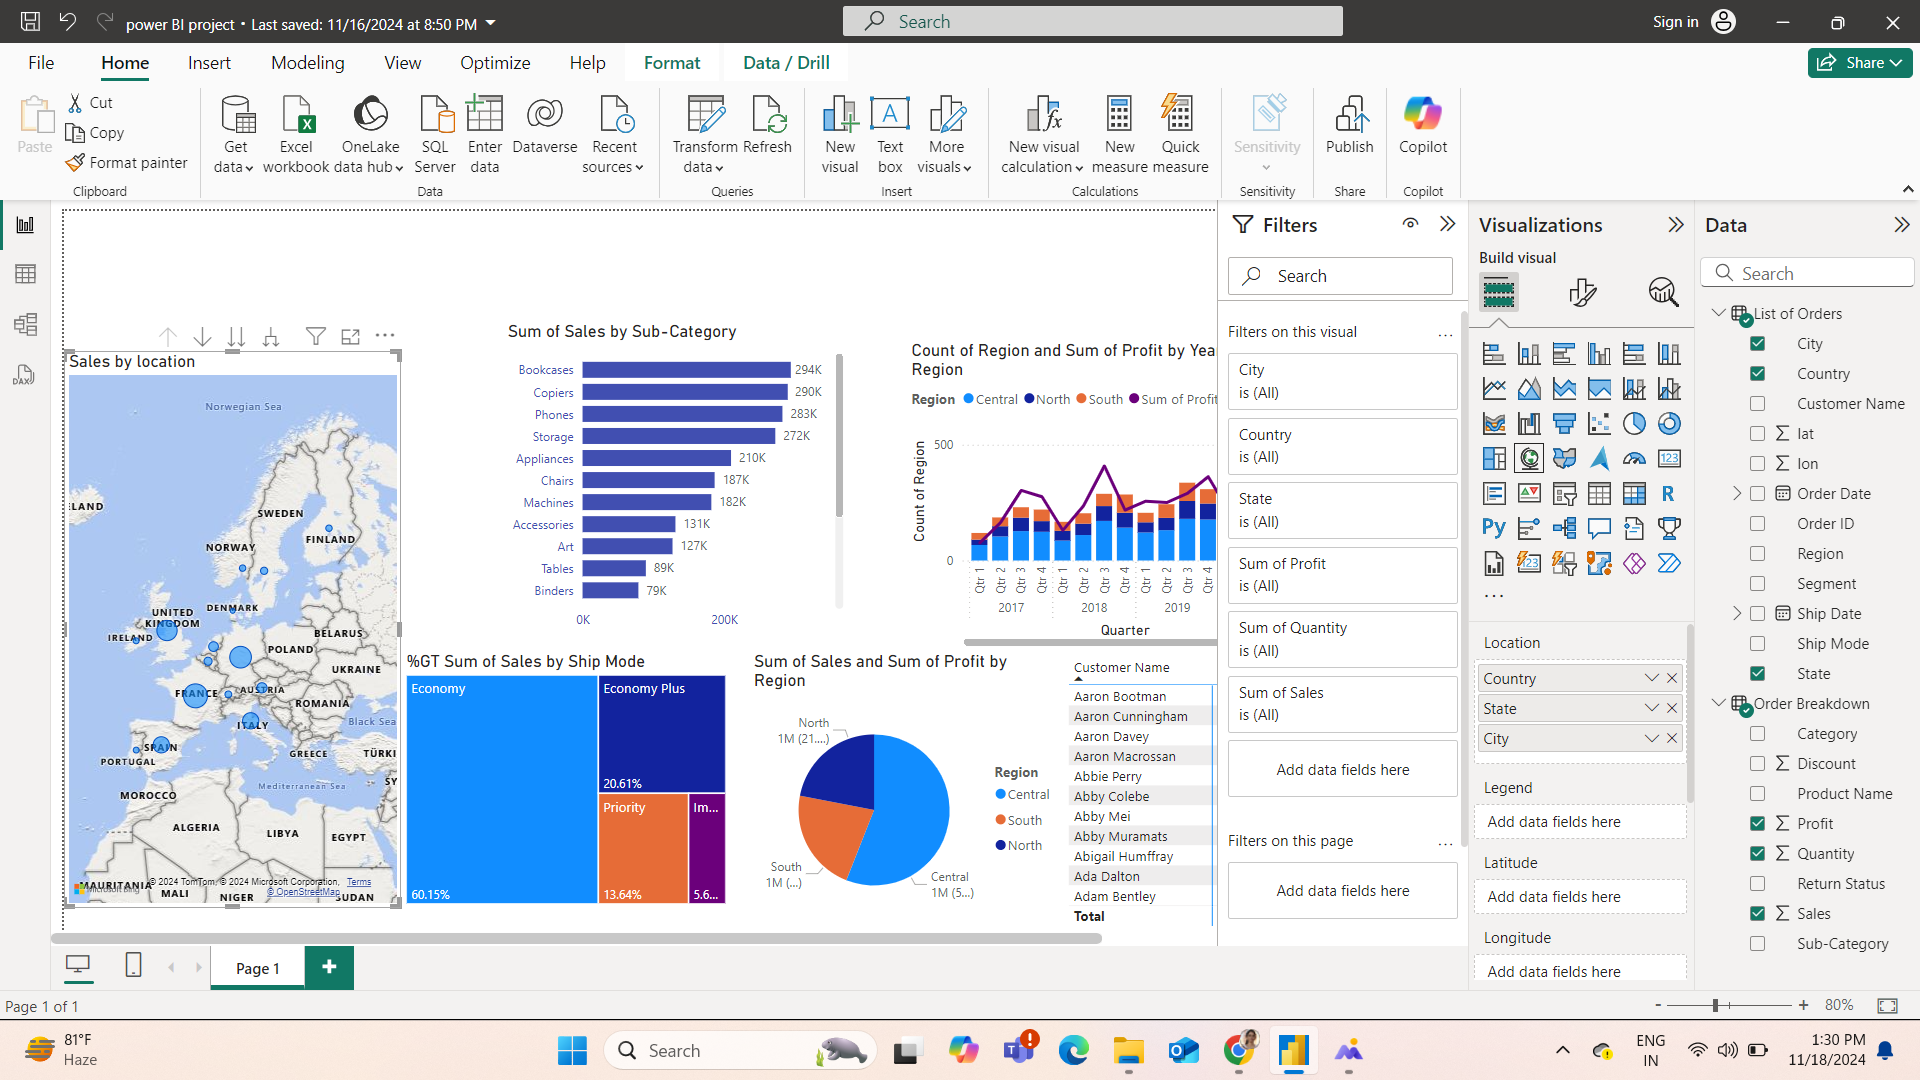

The dashboard page shown, as its layout file describes it:
{"tool":"powerbi","page":{"name":"Page 1","canvas":[1280,720],"ordinal":0},"visuals":[{"type":"pivotTable","fields":{"Rows":["List of Orders.Customer Name"],"Values":["Sum(Order Breakdown.Sales)"]},"box":[1000.3,440.5,279.9,279.9],"z":0},{"type":"clusteredBarChart","title":" Sales by Sub-Category","fields":{"Category":["Order Breakdown.Sub-Category","Order Breakdown.Profit"],"Y":["Sum(Order Breakdown.Sales)"]},"box":[347.5,128.8,437.5,297.5],"z":1000},{"type":"pieChart","title":" Sales and Profit by Region","fields":{"Category":["List of Orders.Region"],"Y":["Sum(Order Breakdown.Sales)"]},"box":[684.7,440.5,315.6,279.9],"z":2000},{"type":"treemap","title":"%GT of Sales by Ship Mode","fields":{"Values":["Sum(Order Breakdown.Sales)"],"Group":["List of Orders.Ship Mode"]},"box":[337.6,440.5,329.3,258],"z":3000},{"type":"lineStackedColumnComboChart","title":"Count of Region  and Profit by Year, Quarter and Region","fields":{"Y2":["Sum(Order Breakdown.Profit)"],"Y":["CountNonNull(List of Orders.Region)"],"Category":["List of Orders.Order Date.Variation.Date Hierarchy.Year","List of Orders.Order Date.Variation.Date Hierarchy.Quarter"],"Series":["List of Orders.Region"]},"box":[842.5,129,437.7,311.5],"z":4000},{"type":"map","title":"Sales by location","fields":{"Category":["List of Orders.Country","List of Orders.State","List of Orders.City"],"Size":["Sum(Order Breakdown.Sales)"]},"box":[0,381.2,347.5,316.2],"z":5000},{"type":"card","fields":{"Values":["Sum(Order Breakdown.Sales)"]},"box":[358.8,0,240,128.8],"z":5001},{"type":"card","fields":{"Values":["Sum(Order Breakdown.Profit)"]},"box":[598.8,0,243.8,130],"z":5003},{"type":"card","fields":{"Values":["Sum(Order Breakdown.Quantity)"]},"box":[842.5,0,218.8,128.8],"z":5004},{"type":"card","fields":{"Values":["CountNonNull(List of Orders.Order ID)"]},"box":[1061.2,0,218.8,128.8],"z":5005},{"type":"image","box":[0,0,105,138.8],"z":5006},{"type":"textbox","box":[100,48.8,258.8,45],"z":5007},{"type":"slicer","fields":{"Values":["List of Orders.Order Date"]},"box":[0,138.8,337.5,106.2],"z":5008},{"type":"slicer","fields":{"Values":["List of Orders.Ship Date"]},"box":[0,245,337.5,115],"z":5009}]}

Visuals, with their boxes on the page's 1280x720 design canvas (x1, y1, x2, y2). These are canvas units, not pixel positions in the 1920x1080 screenshot, which may show the page scaled, cropped or inside an application window:
pivotTable - List of Orders.Customer Name x Sum(Order Breakdown.Sales): locate(1000, 440, 1280, 720)
" Sales by Sub-Category" clusteredBarChart: locate(348, 129, 785, 426)
" Sales and Profit by Region" pieChart: locate(685, 440, 1000, 720)
"%GT of Sales by Ship Mode" treemap: locate(338, 440, 667, 698)
"Count of Region  and Profit by Year, Quarter and Region" lineStackedColumnComboChart: locate(842, 129, 1280, 440)
"Sales by location" map: locate(0, 381, 348, 697)
card - Sum(Order Breakdown.Sales): locate(359, 0, 599, 129)
card - Sum(Order Breakdown.Profit): locate(599, 0, 843, 130)
card - Sum(Order Breakdown.Quantity): locate(842, 0, 1061, 129)
card - CountNonNull(List of Orders.Order ID): locate(1061, 0, 1280, 129)
image: locate(0, 0, 105, 139)
textbox: locate(100, 49, 359, 94)
slicer - List of Orders.Order Date: locate(0, 139, 338, 245)
slicer - List of Orders.Ship Date: locate(0, 245, 338, 360)
